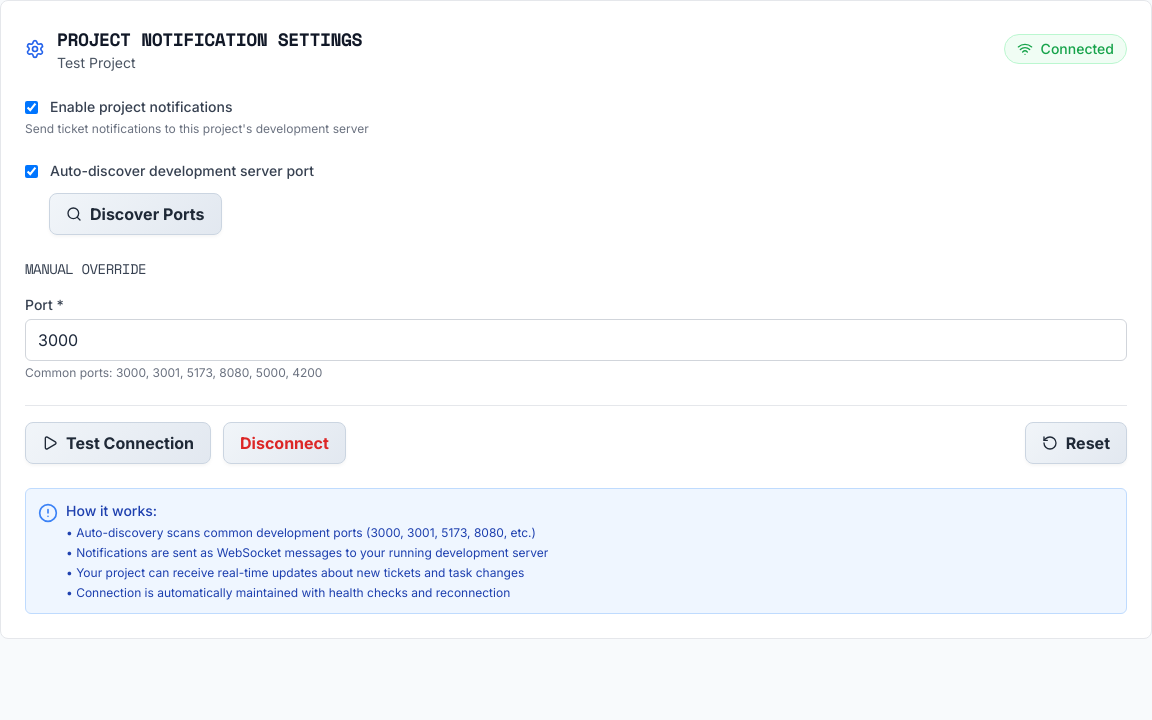
Test: ProjectPortConfiguration Component › Connection Status › should show Test Successful temporarily
Click the button "Test Connection" at x=118, y=443, box [25,422,211,464]
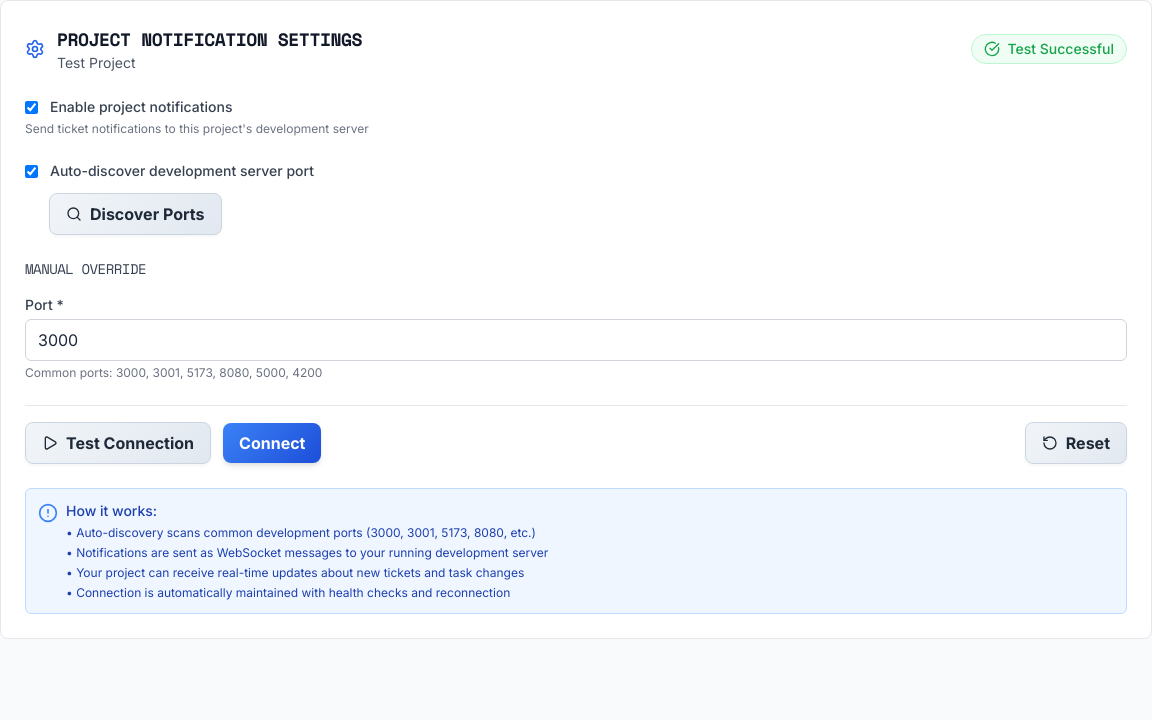
Now the text "Test Successful" is shown, box [1008,39,1114,59]
